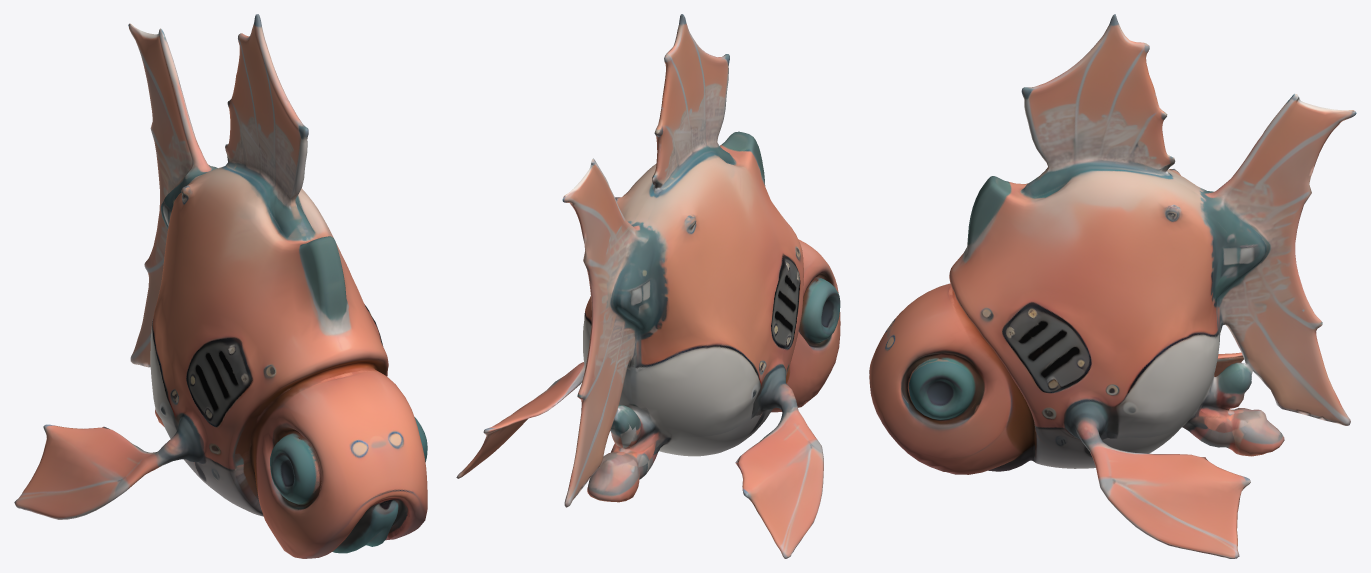
File: robotic_fish-v1.glb
The picture shows the model from 3 angles, left to right: view 1: azimuth 30°, elevation 25°; view 2: azimuth 150°, elevation 25°; view 3: azimuth 270°, elevation 25°; orthographic projection. The views are drawn at different scales.
Visible parts, largest first — view 1: Object_2; view 2: Object_2; view 3: Object_2.
Part boxes in pixels (x1=…): Object_2: x1=14, y1=14, x2=427, y2=558; Object_2: x1=456, y1=14, x2=840, y2=558; Object_2: x1=869, y1=14, x2=1356, y2=558.
Bounding box in the file's own units: 1.28 × 1.7 × 1.62.
Materials: 1 (1 with a texture image).
